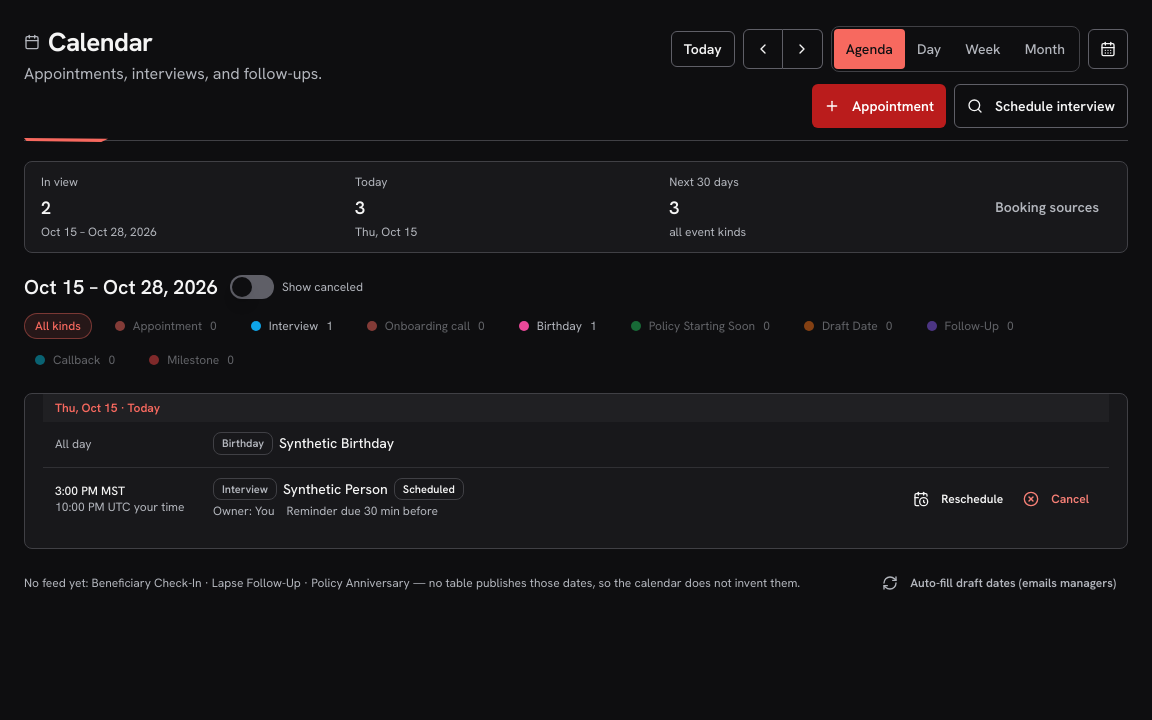
Test: kind chips and the Today tile › the Interview chip counts the painted rows and follows Show canceled; In view moves with it
The width and height of the screenshot is (1152, 720).
Expected: the text "2" is shown, [41,196,51,219]
Click the switch named "Show canceled events" at (252, 287), box [230,275,274,299]
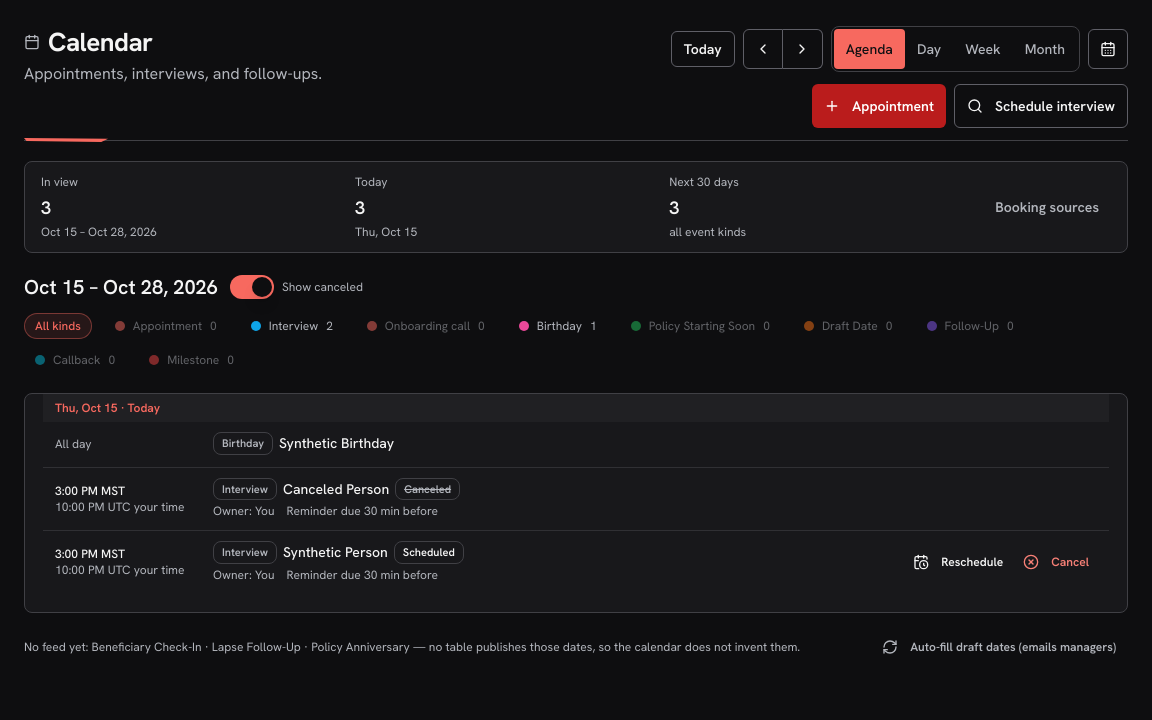
Now the button "Interview 2" is shown, box [240,313,344,339]
Now the text "3" below "In view" is shown, box [41,196,51,219]
